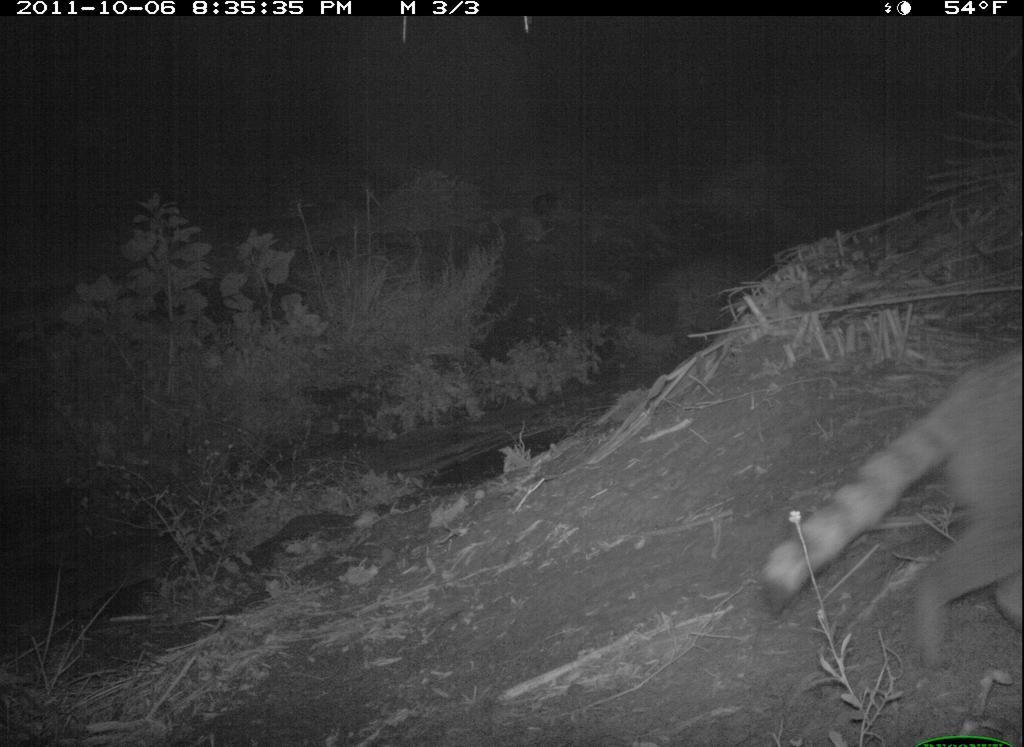raccoon: (754, 335, 1023, 674)
